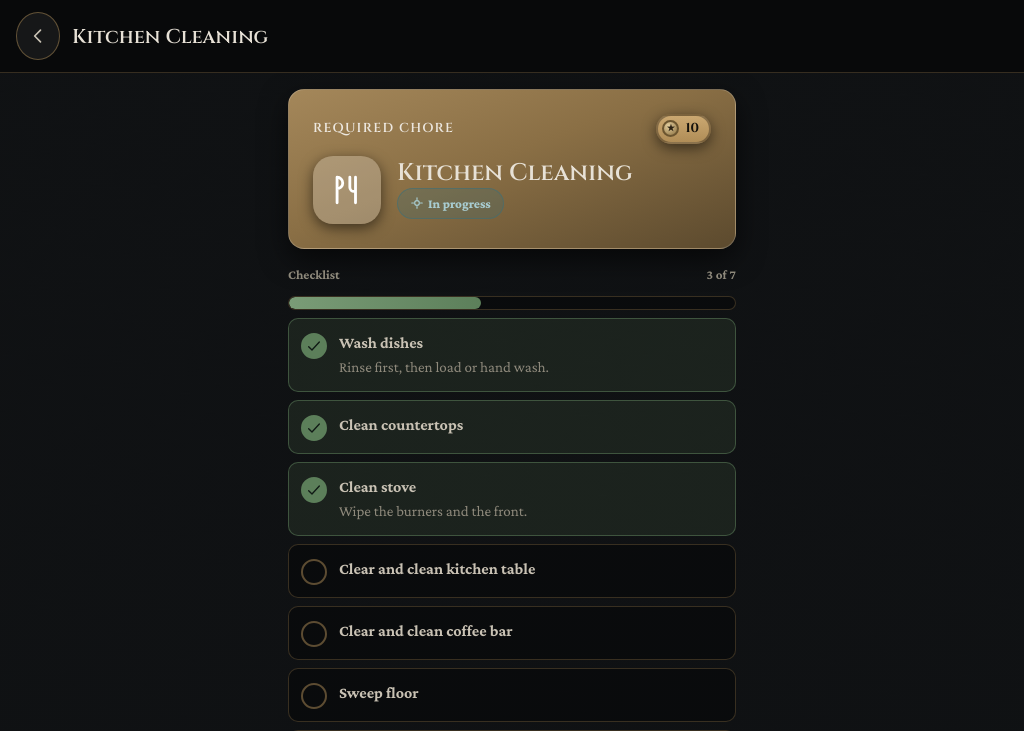
chore completion flow › explains itself instead of offering a camera that cannot work
Click the button "Clear and clean kitchen table". click: point(512, 571)
box: x1=288 y1=544 x2=736 y2=598
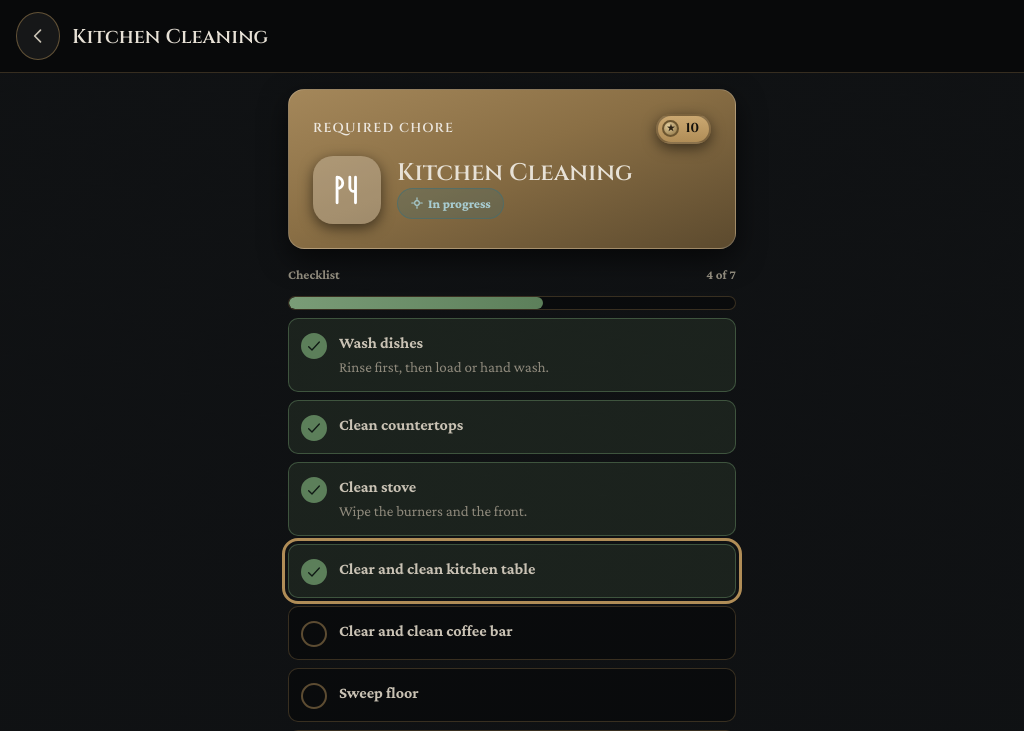
Click the button "Clear and clean coffee bar". click: point(512, 633)
box: x1=288 y1=606 x2=736 y2=660
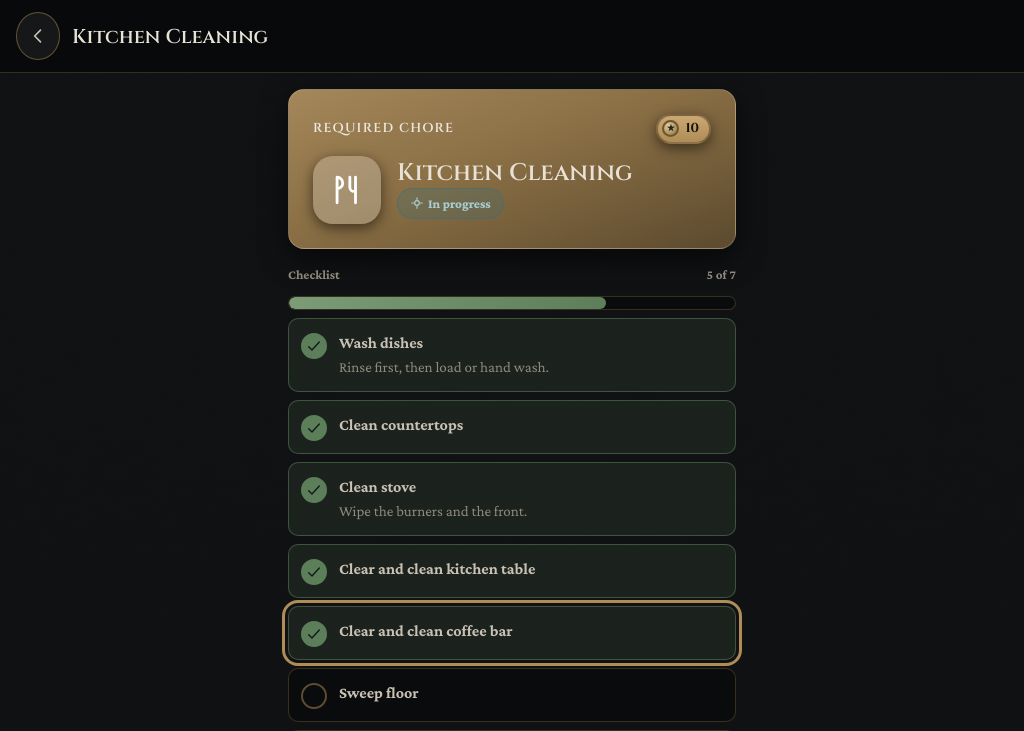
Click the button "Sweep floor". click: point(379, 692)
box: x1=288 y1=668 x2=736 y2=722
(page scrolled)
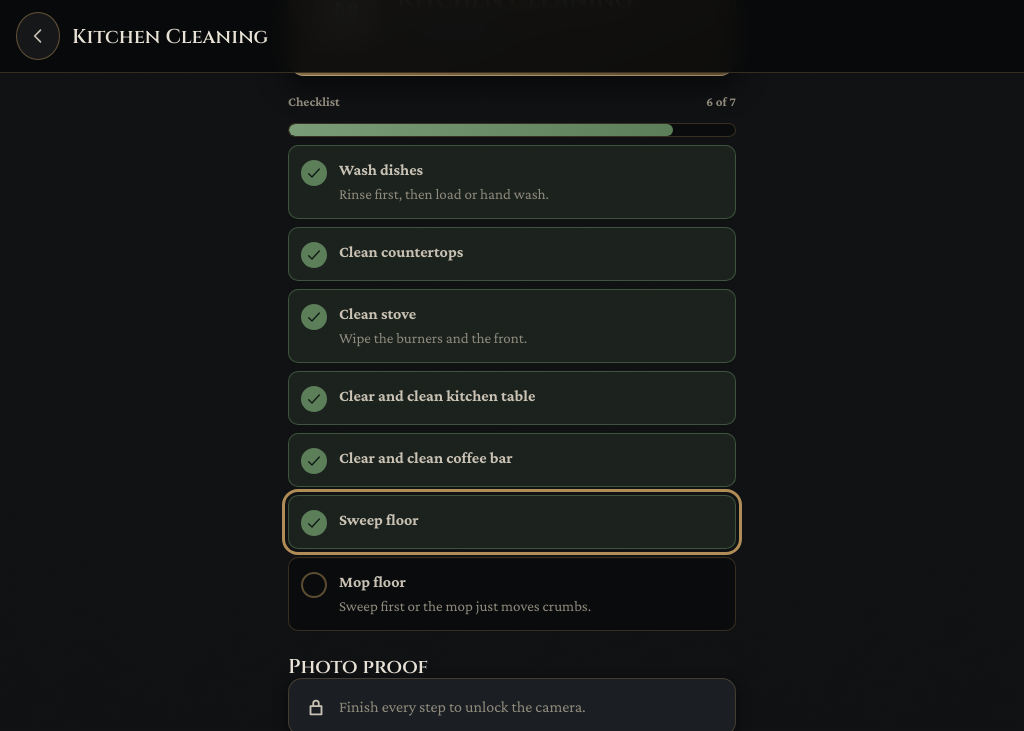
Click the button "Mop floor Sweep first or the mop just moves crumbs.". click: point(372, 582)
box: x1=288 y1=557 x2=736 y2=631
(page scrolled)
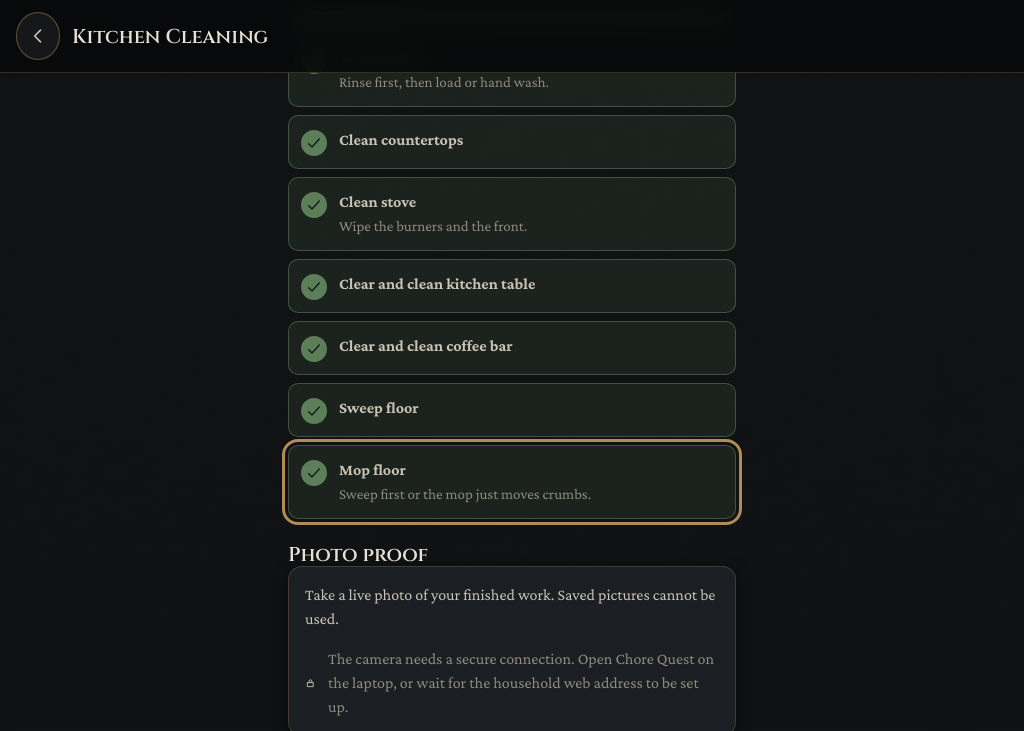
expect the text "needs a secure connection" is shown: met, box x1=328 y1=650 x2=714 y2=715
